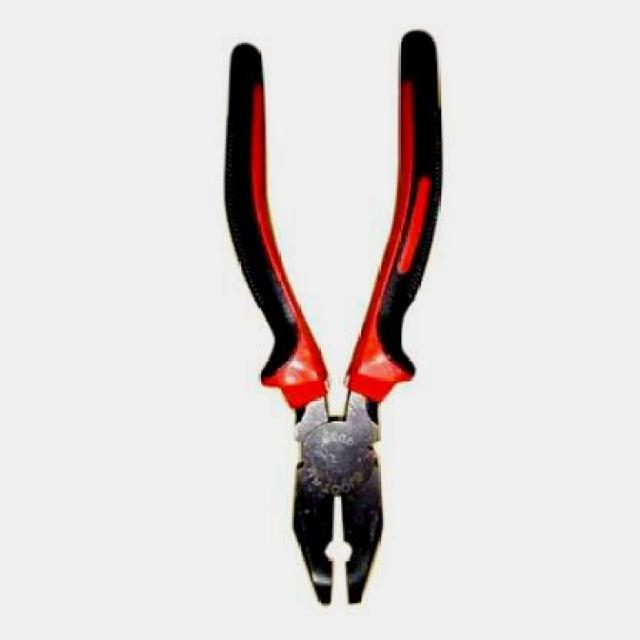pliers: (220, 31, 443, 607)
